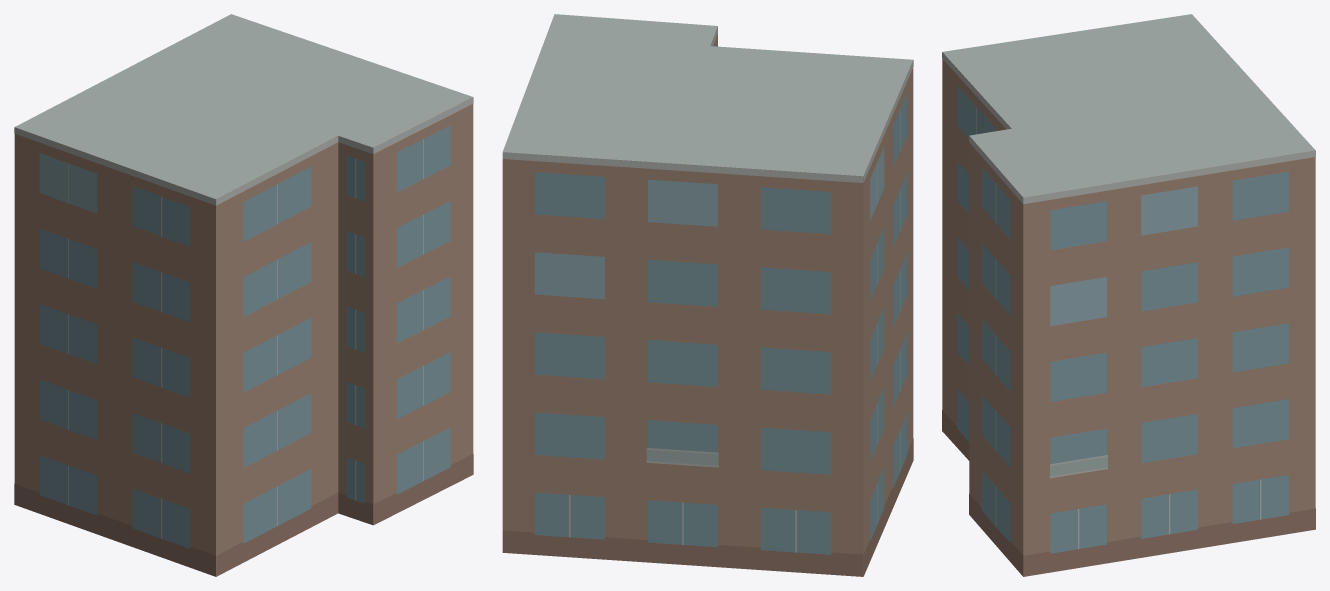
Rendered from survey-upis-32860230.glb.
The picture shows the model from 3 angles, left to right: view 1: azimuth 30°, elevation 25°; view 2: azimuth 150°, elevation 25°; view 3: azimuth 270°, elevation 25°; orthographic projection. The views are drawn at different scales.
Visible parts, largest first — view 1: survey-upis-32860230.tmp; view 2: survey-upis-32860230.tmp; view 3: survey-upis-32860230.tmp.
Boxes of the visible parts, x1,y1,x2,y2 form: survey-upis-32860230.tmp: [14, 14, 473, 576]; survey-upis-32860230.tmp: [502, 14, 913, 576]; survey-upis-32860230.tmp: [942, 14, 1315, 576].
Bounding box in the file's own units: 14.88 × 14.3 × 12.78.
